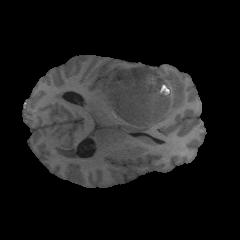glioma: (99, 65, 186, 129)
